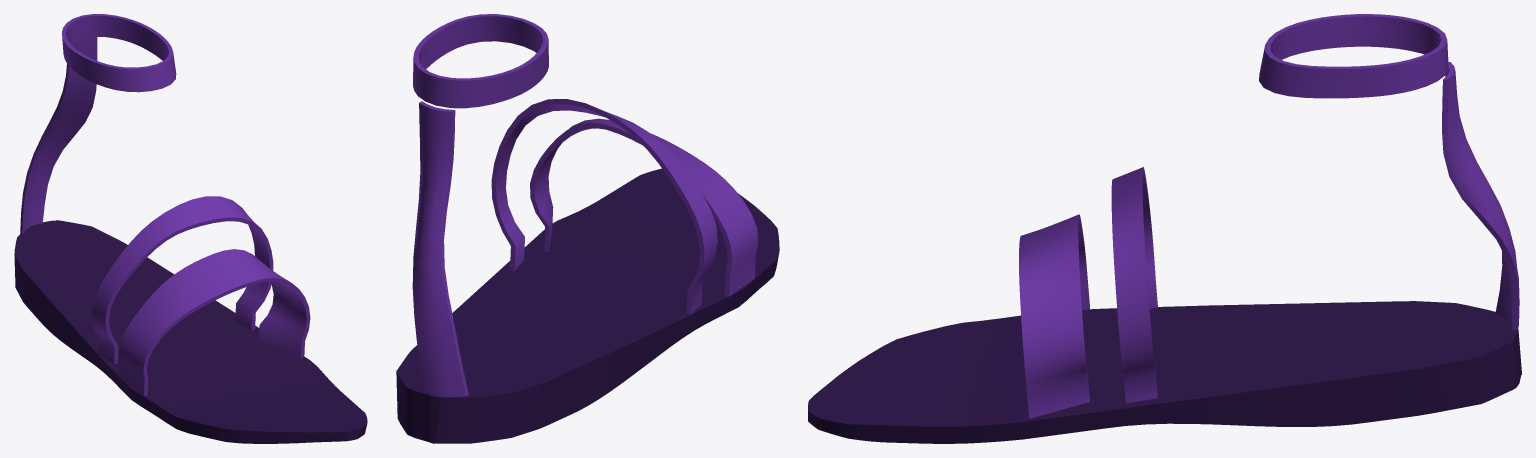
The model's file is anne2_heel_prop.glb.
The picture shows the model from 3 angles, left to right: view 1: azimuth 30°, elevation 25°; view 2: azimuth 150°, elevation 25°; view 3: azimuth 270°, elevation 25°; orthographic projection. The views are drawn at different scales.
Parts seen in each view (by area): view 1: Anne_HeelProp; view 2: Anne_HeelProp; view 3: Anne_HeelProp.
Boxes of the visible parts, box(x1,y1,x2,y2) form: Anne_HeelProp: box(14, 14, 367, 443); Anne_HeelProp: box(396, 14, 779, 443); Anne_HeelProp: box(808, 14, 1521, 443).
Bounding box in the file's own units: 0.0839 × 0.1245 × 0.2228.
